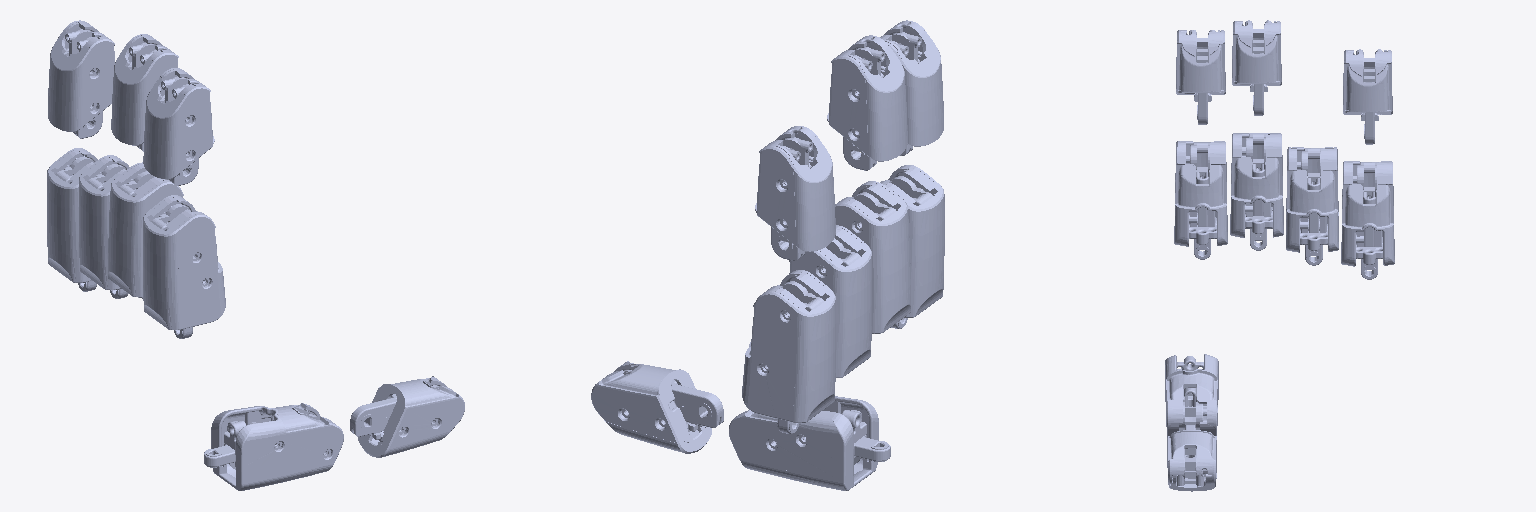
URDF robot description (gaiahand_left):
<?xml version="1.0" encoding="utf-8"?>
<!-- This URDF was automatically created by SolidWorks to URDF Exporter! Originally created by Stephen Brawner (brawner@gmail.com) 
     Commit Version: 1.6.0-4-g7f85cfe  Build Version: 1.6.7995.38578
     For more information, please see http://wiki.ros.org/sw_urdf_exporter -->
<robot
  name="gaiahand_left">
  <link
    name="left_base_link">
    <inertial>
      <origin
        xyz="-0.0284477492390247 0.000542790881224919 0.076706739748753"
        rpy="0 0 0" />
      <mass
        value="0.173722811353607" />
      <inertia
        ixx="0.000318190673792662"
        ixy="-1.91565322855582E-07"
        ixz="1.74042617609063E-05"
        iyy="0.000212901712165703"
        iyz="7.13837155170364E-07"
        izz="0.000130954384314833" />
    </inertial>
    <visual>
      <origin
        xyz="0 0 0"
        rpy="0 0 0" />
      <geometry>
        <mesh
          filename="package://gaiahand_left/meshes/left_base_link.STL" />
      </geometry>
      <material
        name="">
        <color
          rgba="0.792156862745098 0.819607843137255 0.933333333333333 1" />
      </material>
    </visual>
    <collision>
      <origin
        xyz="0 0 0"
        rpy="0 0 0" />
      <geometry>
        <mesh
          filename="package://gaiahand_left/meshes/left_base_link.STL" />
      </geometry>
    </collision>
  </link>
  <link
    name="left_thumb_link_1">
    <inertial>
      <origin
        xyz="0.00247402344171999 0.000249459798458924 0.00393402043351931"
        rpy="0 0 0" />
      <mass
        value="0.00397641751207284" />
      <inertia
        ixx="9.52539334417355E-08"
        ixy="-5.13338778559484E-09"
        ixz="-7.42287401161244E-09"
        iyy="1.0516919539407E-07"
        iyz="-5.02436651239461E-09"
        izz="9.48032374107921E-08" />
    </inertial>
    <visual>
      <origin
        xyz="0 0 0"
        rpy="0 0 0" />
      <geometry>
        <mesh
          filename="package://gaiahand_left/meshes/left_thumb_link_1.STL" />
      </geometry>
      <material
        name="">
        <color
          rgba="0.792156862745098 0.819607843137255 0.933333333333333 1" />
      </material>
    </visual>
    <collision>
      <origin
        xyz="0 0 0"
        rpy="0 0 0" />
      <geometry>
        <mesh
          filename="package://gaiahand_left/meshes/left_thumb_link_1.STL" />
      </geometry>
    </collision>
  </link>
  <joint
    name="left_thumb_joint_1"
    type="revolute">
    <origin
      xyz="0.011787 -0.033111 0.08849"
      rpy="1.4951E-05 -0.0036834 0" />
    <parent
      link="left_base_link" />
    <child
      link="left_thumb_link_1" />
    <axis
      xyz="0 0 1" />
    <limit
      lower="-1.05"
      upper="0.349"
      effort="0"
      velocity="0" />
  </joint>
  <link
    name="left_thumb_link_2">
    <inertial>
      <origin
        xyz="0.0265067811213511 -0.00399585693692422 0.000138895991577369"
        rpy="0 0 0" />
      <mass
        value="0.00875851577491426" />
      <inertia
        ixx="4.40292995417802E-07"
        ixy="-4.83371504097576E-08"
        ixz="5.01880663603282E-08"
        iyy="1.04274509553691E-06"
        iyz="2.17943184616637E-09"
        izz="1.27400277195124E-06" />
    </inertial>
    <visual>
      <origin
        xyz="0 0 0"
        rpy="0 0 0" />
      <geometry>
        <mesh
          filename="package://gaiahand_left/meshes/left_thumb_link_2.STL" />
      </geometry>
      <material
        name="">
        <color
          rgba="0.792156862745098 0.819607843137255 0.933333333333333 1" />
      </material>
    </visual>
    <collision>
      <origin
        xyz="0 0 0"
        rpy="0 0 0" />
      <geometry>
        <mesh
          filename="package://gaiahand_left/meshes/left_thumb_link_2.STL" />
      </geometry>
    </collision>
  </link>
  <joint
    name="left_thumb_joint_2"
    type="revolute">
    <origin
      xyz="0.013 0 0"
      rpy="1.5708 0 0" />
    <parent
      link="left_thumb_link_1" />
    <child
      link="left_thumb_link_2" />
    <axis
      xyz="0 0 1" />
    <limit
      lower="0"
      upper="1.05"
      effort="0"
      velocity="0" />
  </joint>
  <link
    name="left_thumb_link_3">
    <inertial>
      <origin
        xyz="0.0192830777791346 -0.00198397475349806 -0.000167205014019504"
        rpy="0 0 0" />
      <mass
        value="0.00409358650492291" />
      <inertia
        ixx="1.96807204522082E-07"
        ixy="3.86407695726891E-08"
        ixz="-2.649643192699E-09"
        iyy="6.67069325890553E-07"
        iyz="-1.83415949975503E-09"
        izz="8.03398335641798E-07" />
    </inertial>
    <visual>
      <origin
        xyz="0 0 0"
        rpy="0 0 0" />
      <geometry>
        <mesh
          filename="package://gaiahand_left/meshes/left_thumb_link_3.STL" />
      </geometry>
      <material
        name="">
        <color
          rgba="0.792156862745098 0.819607843137255 0.933333333333333 1" />
      </material>
    </visual>
    <collision>
      <origin
        xyz="0 0 0"
        rpy="0 0 0" />
      <geometry>
        <mesh
          filename="package://gaiahand_left/meshes/left_thumb_link_3.STL" />
      </geometry>
    </collision>
  </link>
  <joint
    name="left_thumb_joint_3"
    type="revolute">
    <origin
      xyz="0.047603 0 0"
      rpy="0 0 0" />
    <parent
      link="left_thumb_link_2" />
    <child
      link="left_thumb_link_3" />
    <axis
      xyz="0 0 1" />
    <limit
      lower="0"
      upper="1.57"
      effort="0"
      velocity="0" />
  </joint>
  <link
    name="left_index_link_1">
    <inertial>
      <origin
        xyz="0.00247402364993433 0.000249460126856879 0.00393402045604851"
        rpy="0 0 0" />
      <mass
        value="0.00397641756999917" />
      <inertia
        ixx="9.5253936720187E-08"
        ixy="-5.13338929494493E-09"
        ixz="-7.42287485418567E-09"
        iyy="1.05169196970933E-07"
        iyz="-5.0243665844397E-09"
        izz="9.4803240793605E-08" />
    </inertial>
    <visual>
      <origin
        xyz="0 0 0"
        rpy="0 0 0" />
      <geometry>
        <mesh
          filename="package://gaiahand_left/meshes/left_index_link_1.STL" />
      </geometry>
      <material
        name="">
        <color
          rgba="0.792156862745098 0.819607843137255 0.933333333333333 1" />
      </material>
    </visual>
    <collision>
      <origin
        xyz="0 0 0"
        rpy="0 0 0" />
      <geometry>
        <mesh
          filename="package://gaiahand_left/meshes/left_index_link_1.STL" />
      </geometry>
    </collision>
  </link>
  <joint
    name="left_index_joint_1"
    type="revolute">
    <origin
      xyz="0.0025677 -0.027928 0.13801"
      rpy="-3.1416 -1.5671 0" />
    <parent
      link="left_base_link" />
    <child
      link="left_index_link_1" />
    <axis
      xyz="0 0 1" />
    <limit
      lower="-0.262"
      upper="0.262"
      effort="0"
      velocity="0" />
  </joint>
  <link
    name="left_index_link_2">
    <inertial>
      <origin
        xyz="0.0265067812458975 -0.00399585697843308 0.000138896177086574"
        rpy="0 0 0" />
      <mass
        value="0.00875851587279157" />
      <inertia
        ixx="4.40293000445529E-07"
        ixy="-4.83371510161528E-08"
        ixz="5.01880650413538E-08"
        iyy="1.04274509841957E-06"
        iyz="2.17943282693837E-09"
        izz="1.27400277632651E-06" />
    </inertial>
    <visual>
      <origin
        xyz="0 0 0"
        rpy="0 0 0" />
      <geometry>
        <mesh
          filename="package://gaiahand_left/meshes/left_index_link_2.STL" />
      </geometry>
      <material
        name="">
        <color
          rgba="0.792156862745098 0.819607843137255 0.933333333333333 1" />
      </material>
    </visual>
    <collision>
      <origin
        xyz="0 0 0"
        rpy="0 0 0" />
      <geometry>
        <mesh
          filename="package://gaiahand_left/meshes/left_index_link_2.STL" />
      </geometry>
    </collision>
  </link>
  <joint
    name="left_index_joint_2"
    type="revolute">
    <origin
      xyz="0.013 0 0"
      rpy="1.5708 0 0" />
    <parent
      link="left_index_link_1" />
    <child
      link="left_index_link_2" />
    <axis
      xyz="0 0 1" />
    <limit
      lower="-0.349"
      upper="1.57"
      effort="0"
      velocity="0" />
  </joint>
  <link
    name="left_index_link_3">
    <inertial>
      <origin
        xyz="0.0192830994134968 -0.00198376763428931 -0.000167205801145938"
        rpy="0 0 0" />
      <mass
        value="0.004093586065221" />
      <inertia
        ixx="1.96806357873805E-07"
        ixy="3.86357010726856E-08"
        ixz="-2.64962689365868E-09"
        iyy="6.67070158147784E-07"
        iyz="-1.83418257848878E-09"
        izz="8.03398326627335E-07" />
    </inertial>
    <visual>
      <origin
        xyz="0 0 0"
        rpy="0 0 0" />
      <geometry>
        <mesh
          filename="package://gaiahand_left/meshes/left_index_link_3.STL" />
      </geometry>
      <material
        name="">
        <color
          rgba="0.792156862745098 0.819607843137255 0.933333333333333 1" />
      </material>
    </visual>
    <collision>
      <origin
        xyz="0 0 0"
        rpy="0 0 0" />
      <geometry>
        <mesh
          filename="package://gaiahand_left/meshes/left_index_link_3.STL" />
      </geometry>
    </collision>
  </link>
  <joint
    name="left_index_joint_3"
    type="revolute">
    <origin
      xyz="0.047603 0 0"
      rpy="0 0 0" />
    <parent
      link="left_index_link_2" />
    <child
      link="left_index_link_3" />
    <axis
      xyz="0 0 1" />
    <limit
      lower="0"
      upper="1.57"
      effort="0"
      velocity="0" />
  </joint>
  <link
    name="left_middle_link_1">
    <inertial>
      <origin
        xyz="0.00247402364993506 0.000249460126853958 0.00393402045605029"
        rpy="0 0 0" />
      <mass
        value="0.00397641756999916" />
      <inertia
        ixx="9.52539367201855E-08"
        ixy="-5.13338929494586E-09"
        ixz="-7.42287485418621E-09"
        iyy="1.05169196970934E-07"
        iyz="-5.02436658443915E-09"
        izz="9.48032407936072E-08" />
    </inertial>
    <visual>
      <origin
        xyz="0 0 0"
        rpy="0 0 0" />
      <geometry>
        <mesh
          filename="package://gaiahand_left/meshes/left_middle_link_1.STL" />
      </geometry>
      <material
        name="">
        <color
          rgba="0.792156862745098 0.819607843137255 0.933333333333333 1" />
      </material>
    </visual>
    <collision>
      <origin
        xyz="0 0 0"
        rpy="0 0 0" />
      <geometry>
        <mesh
          filename="package://gaiahand_left/meshes/left_middle_link_1.STL" />
      </geometry>
    </collision>
  </link>
  <joint
    name="left_middle_joint_1"
    type="revolute">
    <origin
      xyz="0.0025677 -0.0057234 0.14197"
      rpy="-3.1416 -1.5671 0" />
    <parent
      link="left_base_link" />
    <child
      link="left_middle_link_1" />
    <axis
      xyz="0 0 1" />
    <limit
      lower="-0.401"
      upper="0.314"
      effort="0"
      velocity="0" />
  </joint>
  <link
    name="left_middle_link_2">
    <inertial>
      <origin
        xyz="0.026506781289745 -0.00399585694636873 0.000138896146654036"
        rpy="0 0 0" />
      <mass
        value="0.00875851582996083" />
      <inertia
        ixx="4.40292998690411E-07"
        ixy="-4.83371496718386E-08"
        ixz="5.01880648745607E-08"
        iyy="1.04274509839018E-06"
        iyz="2.17943192946917E-09"
        izz="1.27400277291926E-06" />
    </inertial>
    <visual>
      <origin
        xyz="0 0 0"
        rpy="0 0 0" />
      <geometry>
        <mesh
          filename="package://gaiahand_left/meshes/left_middle_link_2.STL" />
      </geometry>
      <material
        name="">
        <color
          rgba="0.792156862745098 0.819607843137255 0.933333333333333 1" />
      </material>
    </visual>
    <collision>
      <origin
        xyz="0 0 0"
        rpy="0 0 0" />
      <geometry>
        <mesh
          filename="package://gaiahand_left/meshes/left_middle_link_2.STL" />
      </geometry>
    </collision>
  </link>
  <joint
    name="left_middle_joint_2"
    type="revolute">
    <origin
      xyz="0.013 0 0"
      rpy="1.5708 0 0" />
    <parent
      link="left_middle_link_1" />
    <child
      link="left_middle_link_2" />
    <axis
      xyz="0 0 1" />
    <limit
      lower="-0.349"
      upper="1.57"
      effort="0"
      velocity="0" />
  </joint>
  <link
    name="left_middle_link_3">
    <inertial>
      <origin
        xyz="0.0192830991538157 -0.0019837671038605 -0.00016720500504246"
        rpy="0 0 0" />
      <mass
        value="0.00409358650689472" />
      <inertia
        ixx="1.9680637230401E-07"
        ixy="3.86357057253407E-08"
        ixz="-2.64962339335825E-09"
        iyy="6.67070158814771E-07"
        iyz="-1.8341880442882E-09"
        izz="8.03398336401037E-07" />
    </inertial>
    <visual>
      <origin
        xyz="0 0 0"
        rpy="0 0 0" />
      <geometry>
        <mesh
          filename="package://gaiahand_left/meshes/left_middle_link_3.STL" />
      </geometry>
      <material
        name="">
        <color
          rgba="0.792156862745098 0.819607843137255 0.933333333333333 1" />
      </material>
    </visual>
    <collision>
      <origin
        xyz="0 0 0"
        rpy="0 0 0" />
      <geometry>
        <mesh
          filename="package://gaiahand_left/meshes/left_middle_link_3.STL" />
      </geometry>
    </collision>
  </link>
  <joint
    name="left_middle_joint_3"
    type="revolute">
    <origin
      xyz="0.047603 0 0"
      rpy="0 0 0" />
    <parent
      link="left_middle_link_2" />
    <child
      link="left_middle_link_3" />
    <axis
      xyz="0 0 1" />
    <limit
      lower="0"
      upper="1.57"
      effort="0"
      velocity="0" />
  </joint>
  <link
    name="left_ring_link_1">
    <inertial>
      <origin
        xyz="0.0024740236263075 0.000249460126857021 0.00393402039359114"
        rpy="0 0 0" />
      <mass
        value="0.00397641756999935" />
      <inertia
        ixx="9.52539368082794E-08"
        ixy="-5.1333892651324E-09"
        ixz="-7.42287485151211E-09"
        iyy="1.05169196970936E-07"
        iyz="-5.0243666148998E-09"
        izz="9.48032407055177E-08" />
    </inertial>
    <visual>
      <origin
        xyz="0 0 0"
        rpy="0 0 0" />
      <geometry>
        <mesh
          filename="package://gaiahand_left/meshes/left_ring_link_1.STL" />
      </geometry>
      <material
        name="">
        <color
          rgba="0.792156862745098 0.819607843137255 0.933333333333333 1" />
      </material>
    </visual>
    <collision>
      <origin
        xyz="0 0 0"
        rpy="0 0 0" />
      <geometry>
        <mesh
          filename="package://gaiahand_left/meshes/left_ring_link_1.STL" />
      </geometry>
    </collision>
  </link>
  <joint
    name="left_ring_joint_1"
    type="revolute">
    <origin
      xyz="0.0025677 0.016251 0.13545"
      rpy="-3.1416 -1.5671 0" />
    <parent
      link="left_base_link" />
    <child
      link="left_ring_link_1" />
    <axis
      xyz="0 0 1" />
    <limit
      lower="-0.349"
      upper="0.175"
      effort="0"
      velocity="0" />
  </joint>
  <link
    name="left_ring_link_2">
    <inertial>
      <origin
        xyz="0.0265067813134706 -0.00399585678908432 0.00013889614665224"
        rpy="0 0 0" />
      <mass
        value="0.00875851582996085" />
      <inertia
        ixx="4.40292999264048E-07"
        ixy="-4.83371532466806E-08"
        ixz="5.01880648616304E-08"
        iyy="1.0427450978166E-06"
        iyz="2.17943222727404E-09"
        izz="1.27400277291932E-06" />
    </inertial>
    <visual>
      <origin
        xyz="0 0 0"
        rpy="0 0 0" />
      <geometry>
        <mesh
          filename="package://gaiahand_left/meshes/left_ring_link_2.STL" />
      </geometry>
      <material
        name="">
        <color
          rgba="0.792156862745098 0.819607843137255 0.933333333333333 1" />
      </material>
    </visual>
    <collision>
      <origin
        xyz="0 0 0"
        rpy="0 0 0" />
      <geometry>
        <mesh
          filename="package://gaiahand_left/meshes/left_ring_link_2.STL" />
      </geometry>
    </collision>
  </link>
  <joint
    name="left_ring_joint_2"
    type="revolute">
    <origin
      xyz="0.013 0 0"
      rpy="1.5708 0 0" />
    <parent
      link="left_ring_link_1" />
    <child
      link="left_ring_link_2" />
    <axis
      xyz="0 0 1" />
    <limit
      lower="-0.349"
      upper="1.57"
      effort="0"
      velocity="0" />
  </joint>
  <link
    name="left_ring_link_3">
    <inertial>
      <origin
        xyz="0.0192830997770847 -0.00198376670697287 -0.000167205005045462"
        rpy="0 0 0" />
      <mass
        value="0.00409358650689493" />
      <inertia
        ixx="1.9680637184551E-07"
        ixy="3.86357029349086E-08"
        ixz="-2.64962338247208E-09"
        iyy="6.67070159273325E-07"
        iyz="-1.83418806000956E-09"
        izz="8.03398336401086E-07" />
    </inertial>
    <visual>
      <origin
        xyz="0 0 0"
        rpy="0 0 0" />
      <geometry>
        <mesh
          filename="package://gaiahand_left/meshes/left_ring_link_3.STL" />
      </geometry>
      <material
        name="">
        <color
          rgba="0.792156862745098 0.819607843137255 0.933333333333333 1" />
      </material>
    </visual>
    <collision>
      <origin
        xyz="0 0 0"
        rpy="0 0 0" />
      <geometry>
        <mesh
          filename="package://gaiahand_left/meshes/left_ring_link_3.STL" />
      </geometry>
    </collision>
  </link>
  <joint
    name="left_ring_joint_3"
    type="revolute">
    <origin
      xyz="0.047603 0 0"
      rpy="0 0 0" />
    <parent
      link="left_ring_link_2" />
    <child
      link="left_ring_link_3" />
    <axis
      xyz="0 0 1" />
    <limit
      lower="0"
      upper="1.57"
      effort="0"
      velocity="0" />
  </joint>
  <link
    name="left_little_link_1">
    <inertial>
      <origin
        xyz="0.00247399557678699 0.000249460126865136 0.0039263989050613"
        rpy="0 0 0" />
      <mass
        value="0.0039764175699993" />
      <inertia
        ixx="9.52539367201893E-08"
        ixy="-5.13338929494489E-09"
        ixz="-7.42287485418595E-09"
        iyy="1.05169196970934E-07"
        iyz="-5.02436658444048E-09"
        izz="9.48032407936053E-08" />
    </inertial>
    <visual>
      <origin
        xyz="0 0 0"
        rpy="0 0 0" />
      <geometry>
        <mesh
          filename="package://gaiahand_left/meshes/left_little_link_1.STL" />
      </geometry>
      <material
        name="">
        <color
          rgba="0.792156862745098 0.819607843137255 0.933333333333333 1" />
      </material>
    </visual>
    <collision>
      <origin
        xyz="0 0 0"
        rpy="0 0 0" />
      <geometry>
        <mesh
          filename="package://gaiahand_left/meshes/left_little_link_1.STL" />
      </geometry>
    </collision>
  </link>
  <joint
    name="left_little_joint_1"
    type="revolute">
    <origin
      xyz="0.0025753 0.038291 0.12931"
      rpy="-3.1416 -1.5671 0" />
    <parent
      link="left_base_link" />
    <child
      link="left_little_link_1" />
    <axis
      xyz="0 0 1" />
    <limit
      lower="-0.349"
      upper="0.105"
      effort="0"
      velocity="0" />
  </joint>
  <link
    name="left_little_link_2">
    <inertial>
      <origin
        xyz="0.026506781289759 -0.00399585694637161 0.000138896146645095"
        rpy="0 0 0" />
      <mass
        value="0.00875851582996412" />
      <inertia
        ixx="4.4029299869061E-07"
        ixy="-4.83371496722441E-08"
        ixz="5.01880648745521E-08"
        iyy="1.04274509839081E-06"
        iyz="2.17943192947393E-09"
        izz="1.27400277292006E-06" />
    </inertial>
    <visual>
      <origin
        xyz="0 0 0"
        rpy="0 0 0" />
      <geometry>
        <mesh
          filename="package://gaiahand_left/meshes/left_little_link_2.STL" />
      </geometry>
      <material
        name="">
        <color
          rgba="0.792156862745098 0.819607843137255 0.933333333333333 1" />
      </material>
    </visual>
    <collision>
      <origin
        xyz="0 0 0"
        rpy="0 0 0" />
      <geometry>
        <mesh
          filename="package://gaiahand_left/meshes/left_little_link_2.STL" />
      </geometry>
    </collision>
  </link>
  <joint
    name="left_little_joint_2"
    type="revolute">
    <origin
      xyz="0.013 0 0"
      rpy="1.5708 0 0" />
    <parent
      link="left_little_link_1" />
    <child
      link="left_little_link_2" />
    <axis
      xyz="0 0 1" />
    <limit
      lower="-0.349"
      upper="1.57"
      effort="0"
      velocity="0" />
  </joint>
  <link
    name="left_little_link_3">
    <inertial>
      <origin
        xyz="0.0192830994134845 -0.0019837676342862 -0.000167205801153508"
        rpy="0 0 0" />
      <mass
        value="0.00409358606522048" />
      <inertia
        ixx="1.96806357873775E-07"
        ixy="3.86357010726577E-08"
        ixz="-2.64962689365451E-09"
        iyy="6.67070158147717E-07"
        iyz="-1.83418257849705E-09"
        izz="8.03398326627241E-07" />
    </inertial>
    <visual>
      <origin
        xyz="0 0 0"
        rpy="0 0 0" />
      <geometry>
        <mesh
          filename="package://gaiahand_left/meshes/left_little_link_3.STL" />
      </geometry>
      <material
        name="">
        <color
          rgba="0.792156862745098 0.819607843137255 0.933333333333333 1" />
      </material>
    </visual>
    <collision>
      <origin
        xyz="0 0 0"
        rpy="0 0 0" />
      <geometry>
        <mesh
          filename="package://gaiahand_left/meshes/left_little_link_3.STL" />
      </geometry>
    </collision>
  </link>
  <joint
    name="left_little_joint_3"
    type="revolute">
    <origin
      xyz="0.047603 0 0"
      rpy="0 0 0" />
    <parent
      link="left_little_link_2" />
    <child
      link="left_little_link_3" />
    <axis
      xyz="0 0 1" />
    <limit
      lower="0"
      upper="1.57"
      effort="0"
      velocity="0" />
  </joint>
</robot>

--- Facts derived from the render (not from the file) ---
3 views of the same robot in one strip: view 1: azimuth 30°, elevation 25°; view 2: azimuth 150°, elevation 25°; view 3: azimuth 270°, elevation 25° (orthographic).
Model gaiahand_left with 16 links and 15 joints (15 revolute), rooted at left_base_link, posed every joint at zero.
Visible links, largest first — view 1: left_index_link_2, left_thumb_link_2, left_index_link_3, left_thumb_link_3, left_little_link_3, left_middle_link_2, left_middle_link_3, left_little_link_2, left_ring_link_2, left_thumb_link_1; view 2: left_little_link_2, left_thumb_link_2, left_middle_link_3, left_little_link_3, left_thumb_link_3, left_middle_link_2, left_ring_link_2, left_index_link_2, left_index_link_3, left_thumb_link_1; view 3: left_little_link_2, left_index_link_2, left_ring_link_2, left_middle_link_2, left_thumb_link_2, left_index_link_3, left_middle_link_3, left_little_link_3, left_thumb_link_3, left_ring_link_1, left_index_link_1, left_middle_link_1 (+1 smaller).
Boxes of the visible links, x1=… form: left_index_link_2: x1=143, y1=195, x2=225, y2=329; left_thumb_link_2: x1=211, y1=403, x2=343, y2=490; left_index_link_3: x1=143, y1=68, x2=214, y2=185; left_thumb_link_3: x1=350, y1=376, x2=464, y2=457; left_little_link_3: x1=48, y1=20, x2=114, y2=138; left_middle_link_2: x1=108, y1=162, x2=183, y2=297; left_middle_link_3: x1=111, y1=34, x2=178, y2=151; left_little_link_2: x1=47, y1=148, x2=97, y2=282; left_ring_link_2: x1=79, y1=155, x2=129, y2=289; left_thumb_link_1: x1=204, y1=421, x2=255, y2=469; left_little_link_2: x1=742, y1=270, x2=835, y2=422; left_thumb_link_2: x1=729, y1=396, x2=878, y2=490; left_middle_link_3: x1=827, y1=35, x2=907, y2=170; left_little_link_3: x1=755, y1=126, x2=835, y2=260; left_thumb_link_3: x1=591, y1=361, x2=723, y2=453; left_middle_link_2: x1=835, y1=181, x2=910, y2=333; left_ring_link_2: x1=789, y1=225, x2=871, y2=377; left_index_link_2: x1=880, y1=165, x2=944, y2=317; left_index_link_3: x1=880, y1=20, x2=943, y2=155; left_thumb_link_1: x1=842, y1=410, x2=890, y2=464; left_little_link_2: x1=1341, y1=161, x2=1394, y2=266; left_index_link_2: x1=1174, y1=141, x2=1227, y2=246; left_ring_link_2: x1=1286, y1=147, x2=1338, y2=252; left_middle_link_2: x1=1230, y1=133, x2=1283, y2=237; left_thumb_link_2: x1=1165, y1=354, x2=1218, y2=436; left_index_link_3: x1=1176, y1=30, x2=1225, y2=124; left_middle_link_3: x1=1232, y1=20, x2=1281, y2=115; left_little_link_3: x1=1343, y1=49, x2=1392, y2=144; left_thumb_link_3: x1=1167, y1=425, x2=1216, y2=491; left_ring_link_1: x1=1300, y1=216, x2=1327, y2=265; left_index_link_1: x1=1189, y1=210, x2=1216, y2=259; left_middle_link_1: x1=1245, y1=203, x2=1272, y2=250.
Bounding box of the posed robot: 0.1196 × 0.091 × 0.163 m (x, y, z).
14 mesh visuals loaded from 16 distinct referenced files (14 binary STL); not drawn: 2 (reference not matched to a file when rendering).
